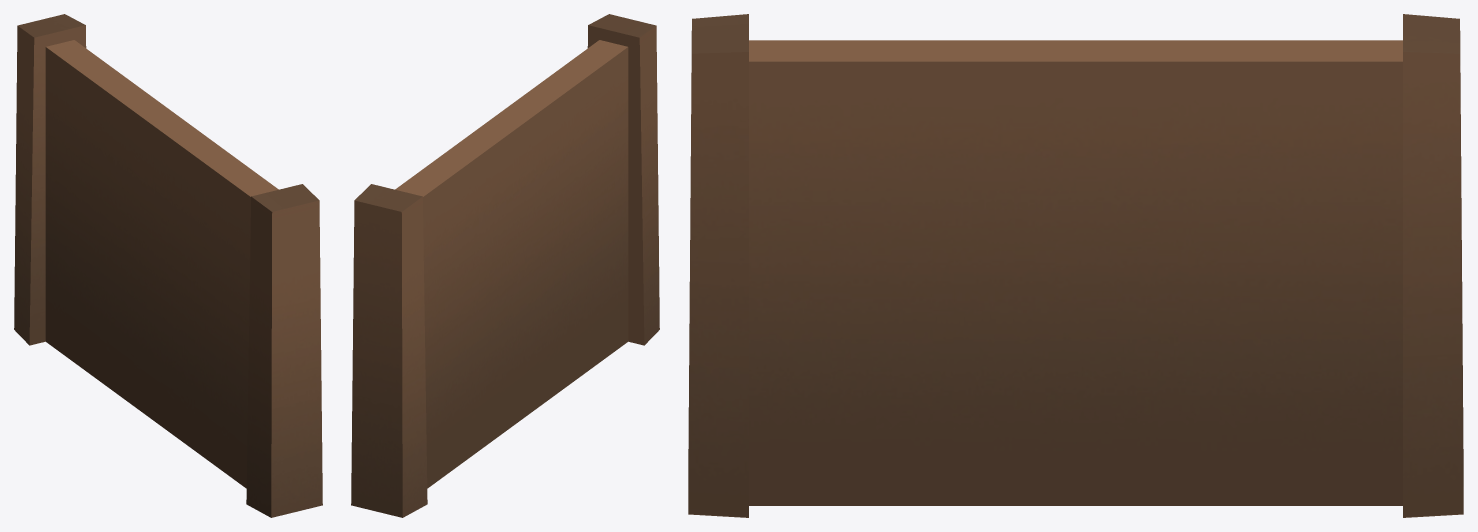
File: Prop_Fence 1.FBX
The picture shows the model from 3 angles, left to right: view 1: azimuth 30°, elevation 25°; view 2: azimuth 150°, elevation 25°; view 3: azimuth 270°, elevation 25°; orthographic projection. The views are drawn at different scales.
Visible parts, largest first — view 1: Box007; view 2: Box007; view 3: Box007.
Part boxes in pixels (x1=…): Box007: x1=14, y1=14, x2=322, y2=517; Box007: x1=351, y1=14, x2=659, y2=517; Box007: x1=688, y1=14, x2=1463, y2=517.
Size of the model in its own units: 32.49 by 156 by 237.
